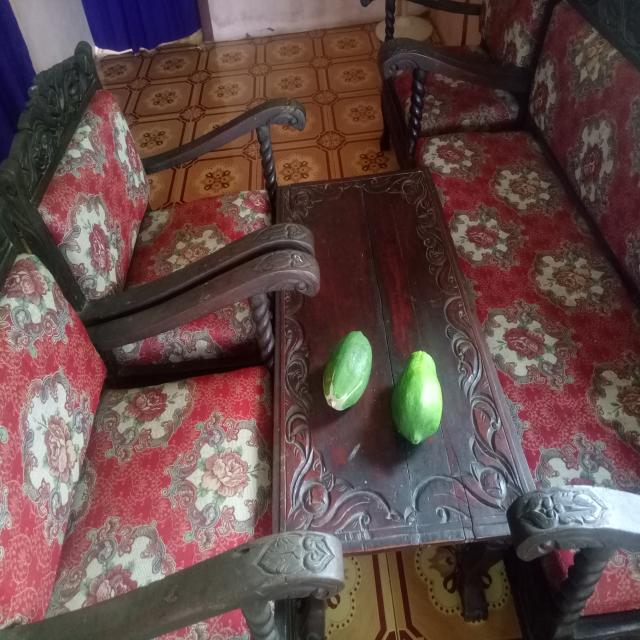Pepaya unrippen: (395, 348, 440, 447), (322, 330, 376, 410)
